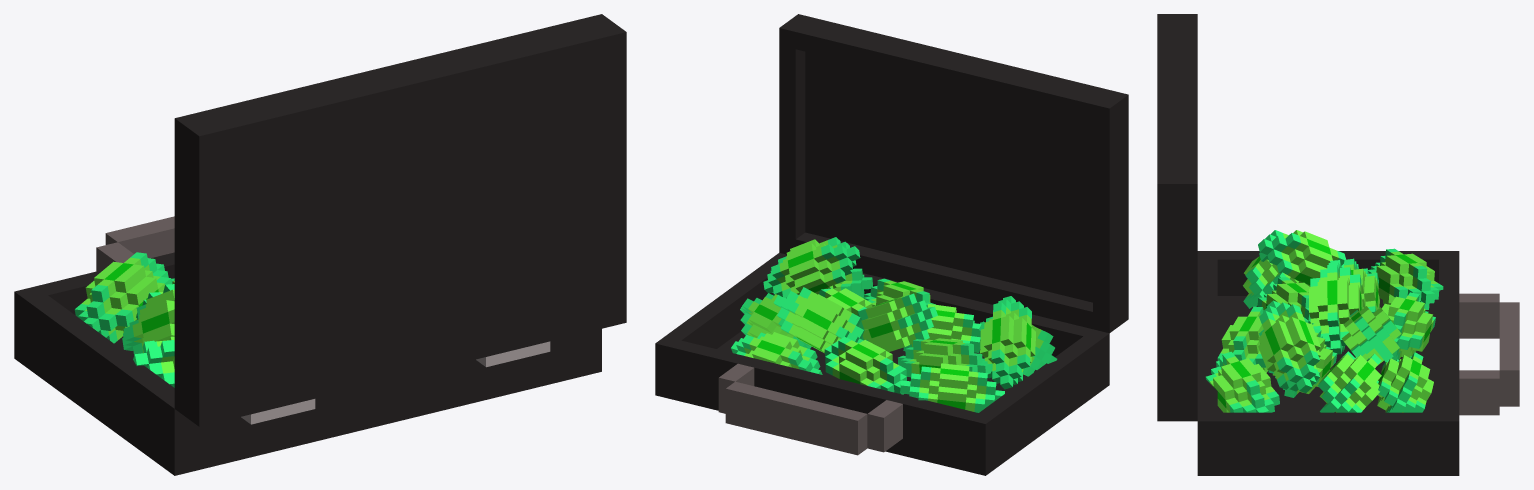
The model's file is Case of Gems.fbx.
3 views of the same model, side by side, from view 1: azimuth 30°, elevation 25°; view 2: azimuth 150°, elevation 25°; view 3: azimuth 270°, elevation 25° (orthographic). The views are drawn at different scales.
Parts seen in each view (by area): view 1: Untitled; view 2: Untitled; view 3: Untitled.
Boxes of the visible parts, x1,y1,x2,y2 form: Untitled: (14, 14, 626, 475); Untitled: (655, 14, 1128, 475); Untitled: (1157, 14, 1519, 475).
Bounding box in the file's own units: 400 × 320 × 360.
